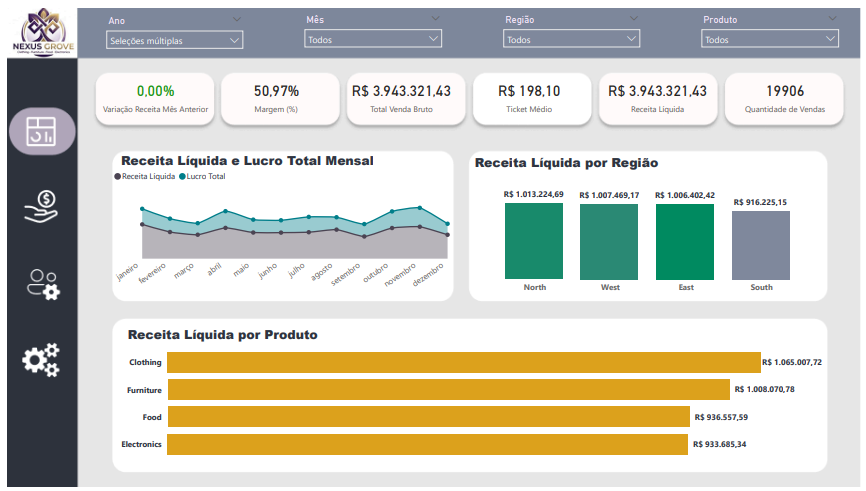

What the dashboard file says about the page in this screenshot:
{"tool":"powerbi","page":{"name":"Analise Geral","canvas":[1280,720],"ordinal":0},"visuals":[{"type":"card","fields":{"Values":["Medidas.21 Ticket Médio"]},"box":[692.5,97,180.6,68.7],"z":0},{"type":"card","fields":{"Values":["Medidas.06 Quantidade Total"]},"box":[1076.1,97,180.6,68.7],"z":1000},{"type":"stackedAreaChart","fields":{"Category":["dCalendario.Nome do Mês"],"Y":["Medidas.02 Receita Líquida","Medidas.04 Lucro Total"]},"box":[155.2,232.8,526.9,204.5],"z":2000},{"type":"clusteredColumnChart","fields":{"Category":["vendas.Region"],"Y":["Medidas.02 Receita Líquida"]},"box":[696.4,250.7,531,186.3],"z":3000},{"type":"barChart","fields":{"Category":["vendas.Product_Category"],"Y":["Medidas.02 Receita Líquida"]},"box":[165.4,485.8,1062,207.2],"z":4000},{"type":"textbox","box":[175.8,470.1,325.6,40],"z":5000},{"type":"textbox","box":[165.7,210,407.1,40],"z":6000},{"type":"textbox","box":[696.4,212.4,475.3,40],"z":7000},{"type":"slicer","fields":{"Values":["dCalendario.Ano"]},"box":[138.8,6,225.4,65.7],"z":8000},{"type":"actionButton","box":[3.3,265,100,65],"z":9000},{"type":"actionButton","box":[3.3,380,100,70],"z":10000},{"type":"actionButton","box":[0,490,100,73.3],"z":11000},{"type":"slicer","fields":{"Values":["dCalendario.Nome do Mês"]},"box":[436.3,4.5,225.4,65.7],"z":12000},{"type":"slicer","fields":{"Values":["vendas.Region"]},"box":[733.8,4.5,225.4,65.7],"z":13000},{"type":"slicer","fields":{"Values":["vendas.Product_Category"]},"box":[1031.3,4.5,225.4,65.7],"z":14000},{"type":"card","fields":{"Values":["Medidas.02 Receita Líquida"]},"box":[885.1,97,180.6,68.7],"z":15000},{"type":"card","fields":{"Values":["Medidas.05 Margem (%)"]},"box":[313.4,97,180.6,68.7],"z":16000},{"type":"card","fields":{"Values":["Medidas.01 Receita Bruta"]},"box":[501.5,97,180.6,68.7],"z":17000},{"type":"card","fields":{"Values":["Medidas.20 Variação % Receita"]},"box":[132.8,97,180.6,68.7],"z":18000}]}

Visuals, with their boxes on the page's 1280x720 design canvas (x1, y1, x2, y2). These are canvas units, not pixel positions in the 866x491 screenshot, which may show the page scaled, cropped or inside an application window:
card - Medidas.21 Ticket Médio: locate(692, 97, 873, 166)
card - Medidas.06 Quantidade Total: locate(1076, 97, 1257, 166)
stackedAreaChart - dCalendario.Nome do Mês x Medidas.02 Receita Líquida: locate(155, 233, 682, 437)
clusteredColumnChart - vendas.Region x Medidas.02 Receita Líquida: locate(696, 251, 1227, 437)
barChart - vendas.Product_Category x Medidas.02 Receita Líquida: locate(165, 486, 1227, 693)
textbox: locate(176, 470, 501, 510)
textbox: locate(166, 210, 573, 250)
textbox: locate(696, 212, 1172, 252)
slicer - dCalendario.Ano: locate(139, 6, 364, 72)
actionButton: locate(3, 265, 103, 330)
actionButton: locate(3, 380, 103, 450)
actionButton: locate(0, 490, 100, 563)
slicer - dCalendario.Nome do Mês: locate(436, 4, 662, 70)
slicer - vendas.Region: locate(734, 4, 959, 70)
slicer - vendas.Product_Category: locate(1031, 4, 1257, 70)
card - Medidas.02 Receita Líquida: locate(885, 97, 1066, 166)
card - Medidas.05 Margem (%): locate(313, 97, 494, 166)
card - Medidas.01 Receita Bruta: locate(502, 97, 682, 166)
card - Medidas.20 Variação % Receita: locate(133, 97, 313, 166)
